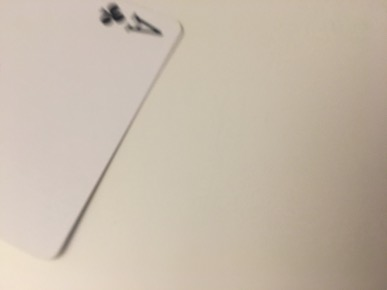AceOfClubs: (1, 1, 185, 264)
